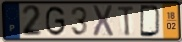2: (20, 4, 44, 39)
3: (70, 6, 89, 36)
D: (139, 4, 162, 39)
G: (45, 5, 67, 37)
T: (117, 5, 136, 37)
X: (91, 4, 115, 38)
